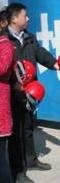boots: (27, 157, 51, 168), (15, 171, 34, 183)
hard-hat: (13, 58, 36, 84)
